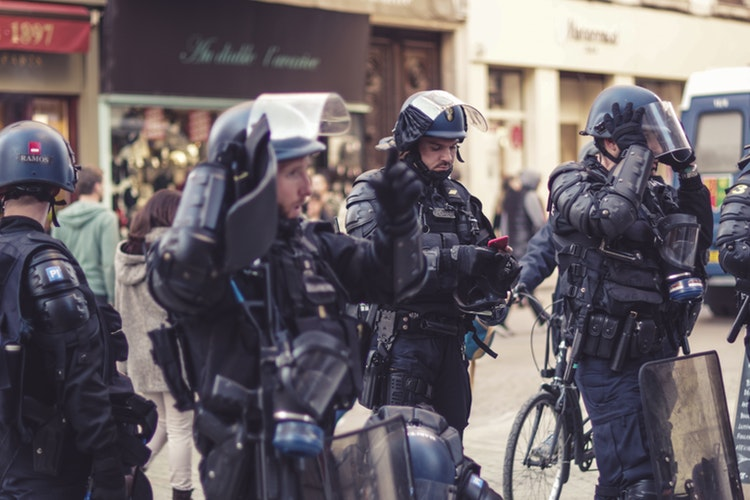helmet: (577, 81, 697, 148), (199, 104, 324, 165), (397, 88, 477, 141)
